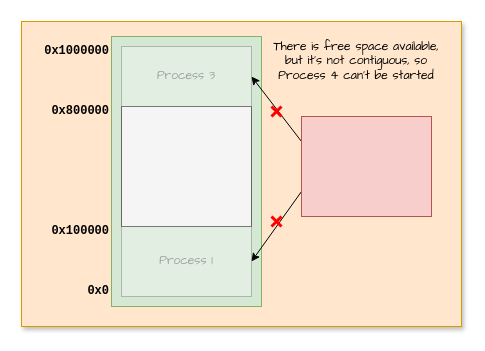
The diagram is 485 pixels wide and 351 high, and some of its shapes have lost their labels. Each missing label, with the centre of its shape:
Process 2: [186,166]
Process 4: [366,166]
